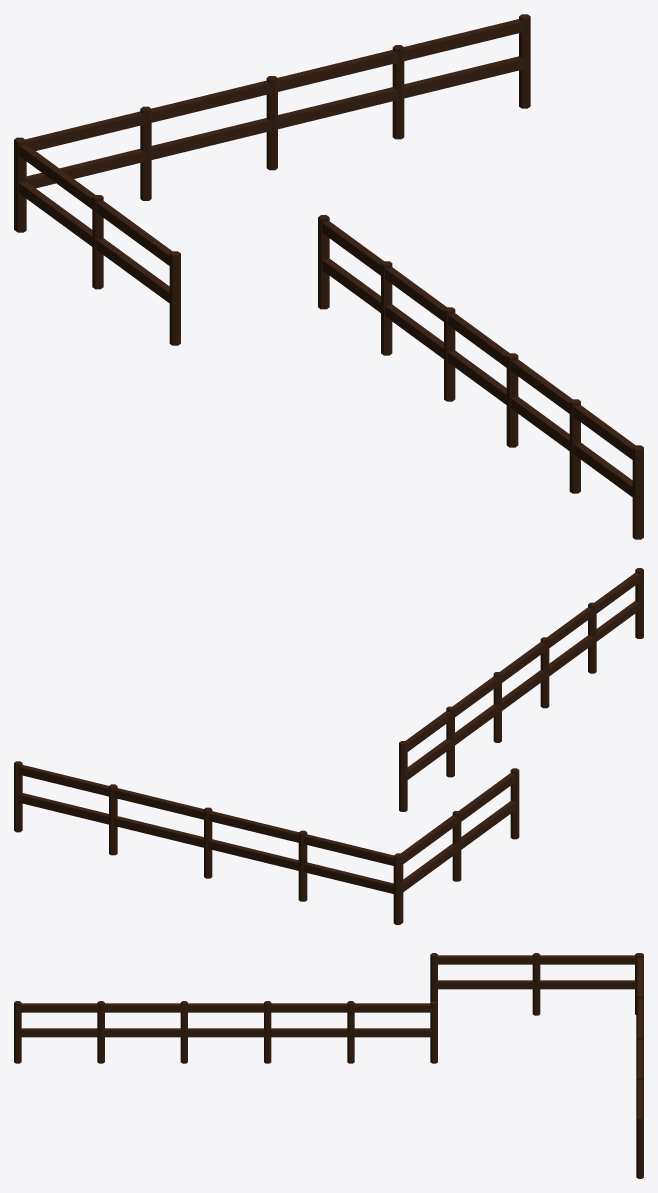
Rendered from railing.glb.
3 views of the same model, one above another, from view 1: azimuth 30°, elevation 25°; view 2: azimuth 150°, elevation 25°; view 3: azimuth 270°, elevation 25° (orthographic). The views are drawn at different scales.
Parts seen in each view (by area): view 1: Pier_Railing; view 2: Pier_Railing; view 3: Pier_Railing.
Boxes of the visible parts, left/top/right/bottom form: Pier_Railing: left=14, top=14, right=643, bottom=539; Pier_Railing: left=14, top=568, right=643, bottom=924; Pier_Railing: left=14, top=953, right=643, bottom=1178.
Size of the model in its own units: 5.19 by 0.87 by 8.32.
Materials: 1 (1 with a texture image).
